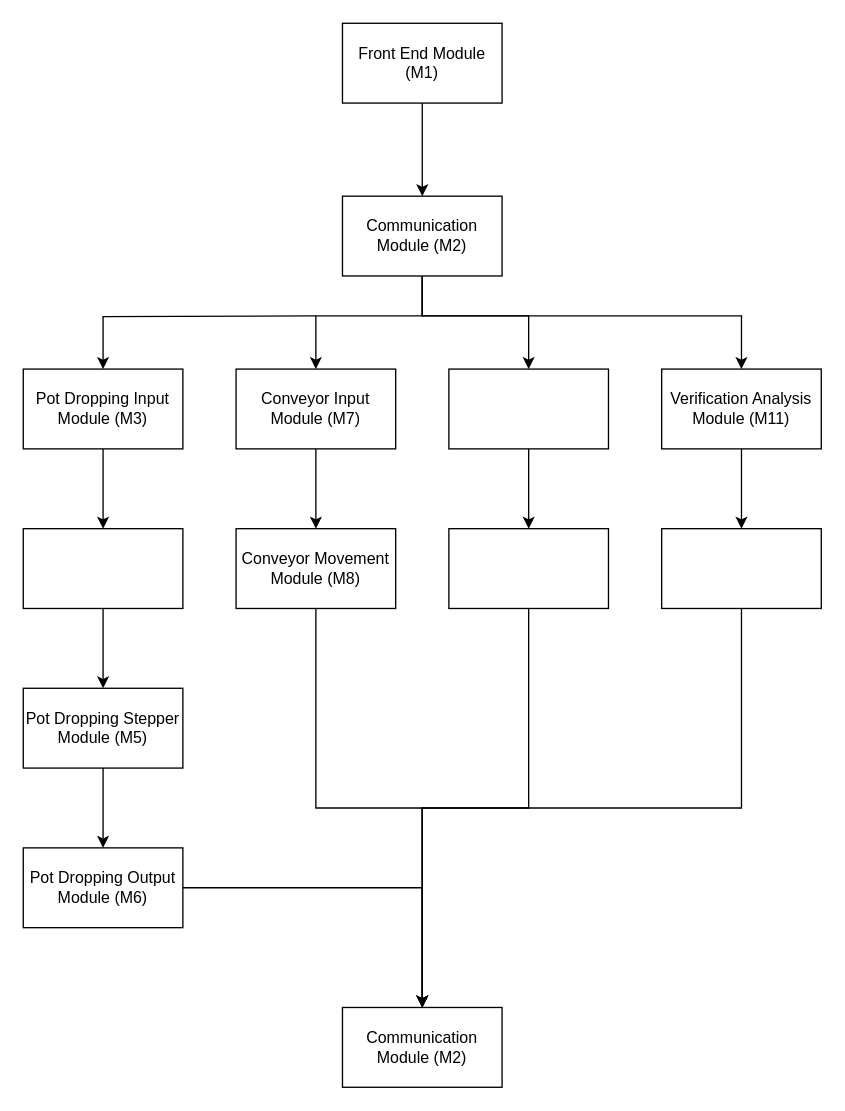
This 845x1111 diagram has some shape labels left out. The shapes that lost their labels are listed below. From the top down, each one's centre as x and y in pixels, then its label:
At (x=528, y=408): "Tray Dispenser Input Module (M9)".
At (x=102, y=567): "Pot Dropping Position Module (M4)".
At (x=528, y=567): "Tray Dispenser Output Module (M10)".
At (x=740, y=567): "Verification Output Module (M12)".
